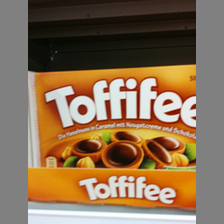chocolate: (28, 69, 195, 174)
